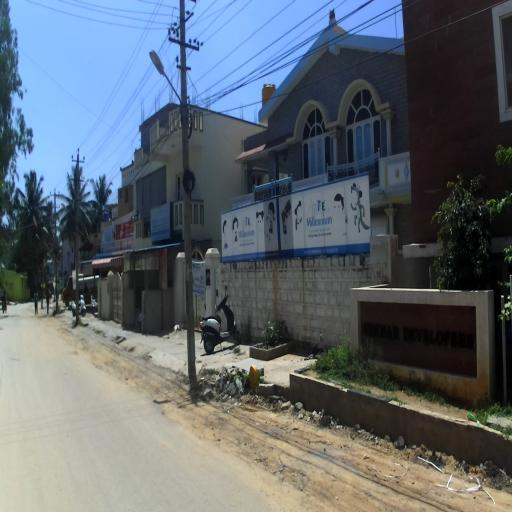street_light_0: (150, 49, 189, 125)
